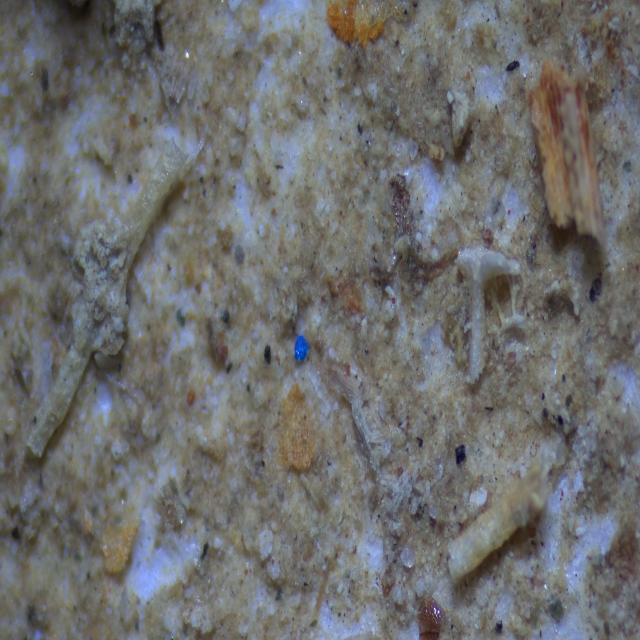microplastic: (290, 337, 311, 362)
